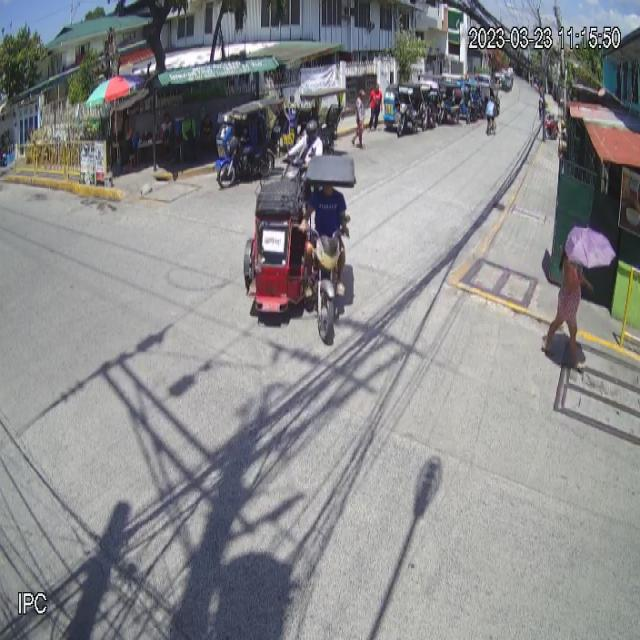Tricycle: (242, 152, 358, 345)
